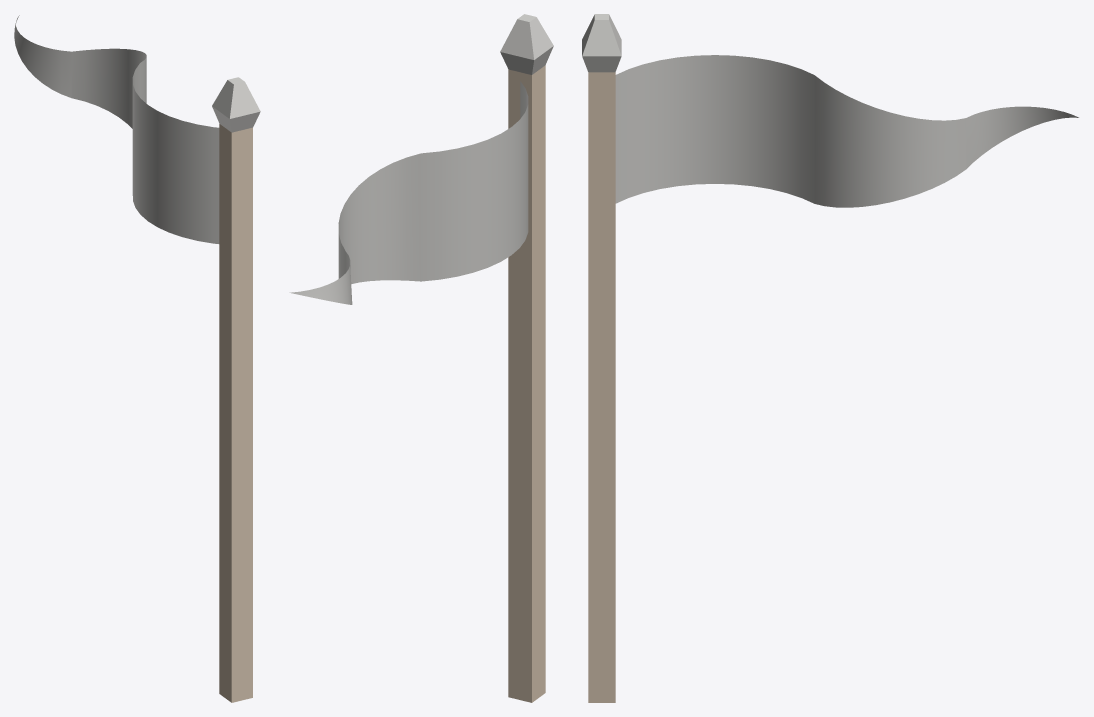
The model's file is flagWhite.glb.
3 renders of one model, left to right at view 1: azimuth 30°, elevation 25°; view 2: azimuth 150°, elevation 25°; view 3: azimuth 270°, elevation 25°, orthographic. The views are drawn at different scales.
Visible parts, largest first — view 1: flagWhite, flag 1; view 2: flag 1, flagWhite; view 3: flag 1, flagWhite.
Part boxes in pixels (left/top/right/bottom): flagWhite: left=212, top=77, right=260, bottom=702; flag 1: left=14, top=15, right=219, bottom=243; flag 1: left=289, top=81, right=528, bottom=304; flagWhite: left=500, top=14, right=553, bottom=702; flag 1: left=615, top=55, right=1078, bottom=207; flagWhite: left=582, top=14, right=621, bottom=702.
Bounding box in the file's own units: 0.8991 × 7.92 × 5.25.
